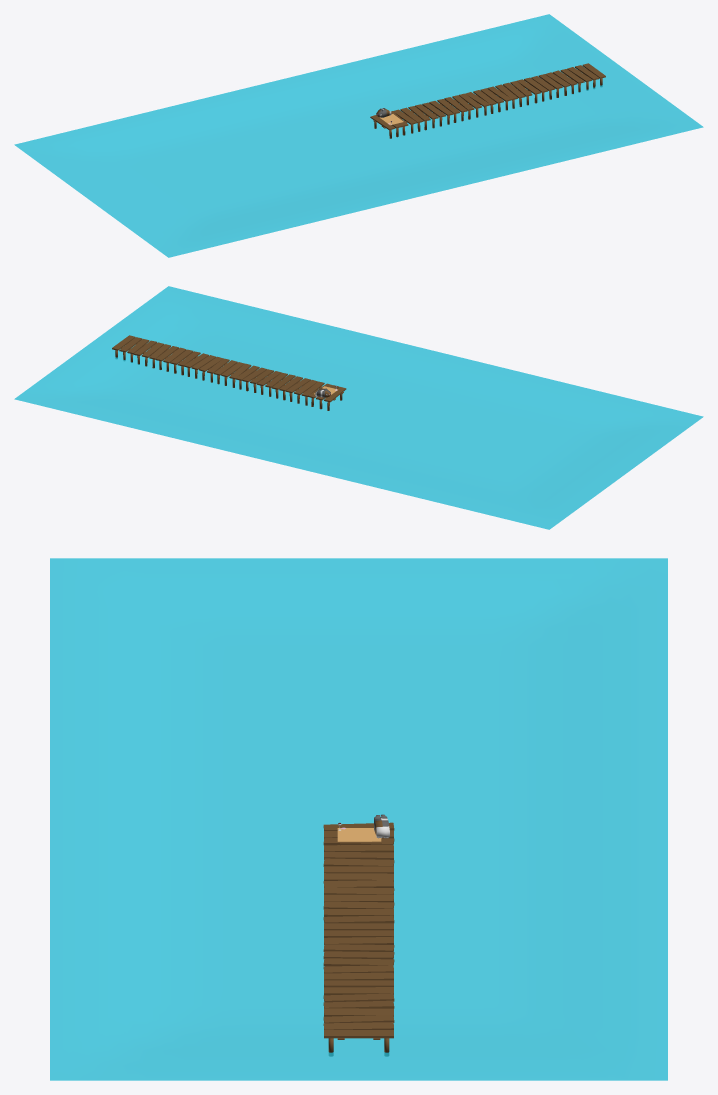
Rendered from lake-chair.glb.
3 views of the same model, one above another, from view 1: azimuth 30°, elevation 25°; view 2: azimuth 150°, elevation 25°; view 3: azimuth 270°, elevation 25° (orthographic). The views are drawn at different scales.
Visible parts, largest first — view 1: 湖面, deck; view 2: 湖面, deck; view 3: 湖面, deck.
Part boxes in pixels (bbox=[...]): 湖面: bbox=[14, 14, 703, 257]; deck: bbox=[370, 63, 605, 138]; 湖面: bbox=[14, 286, 703, 529]; deck: bbox=[112, 335, 346, 410]; 湖面: bbox=[50, 558, 667, 1080]; deck: bbox=[323, 822, 394, 1055].
Size of the model in its own units: 36 by 1.24 by 18.
